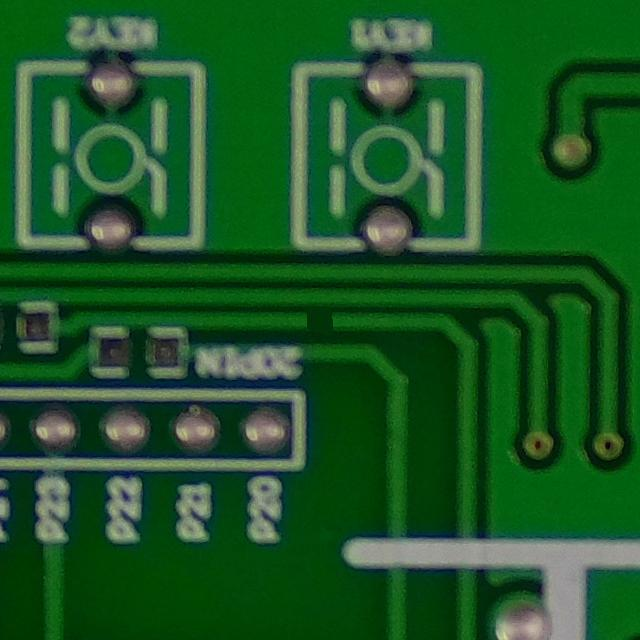open_circuit: (298, 307, 343, 333)
